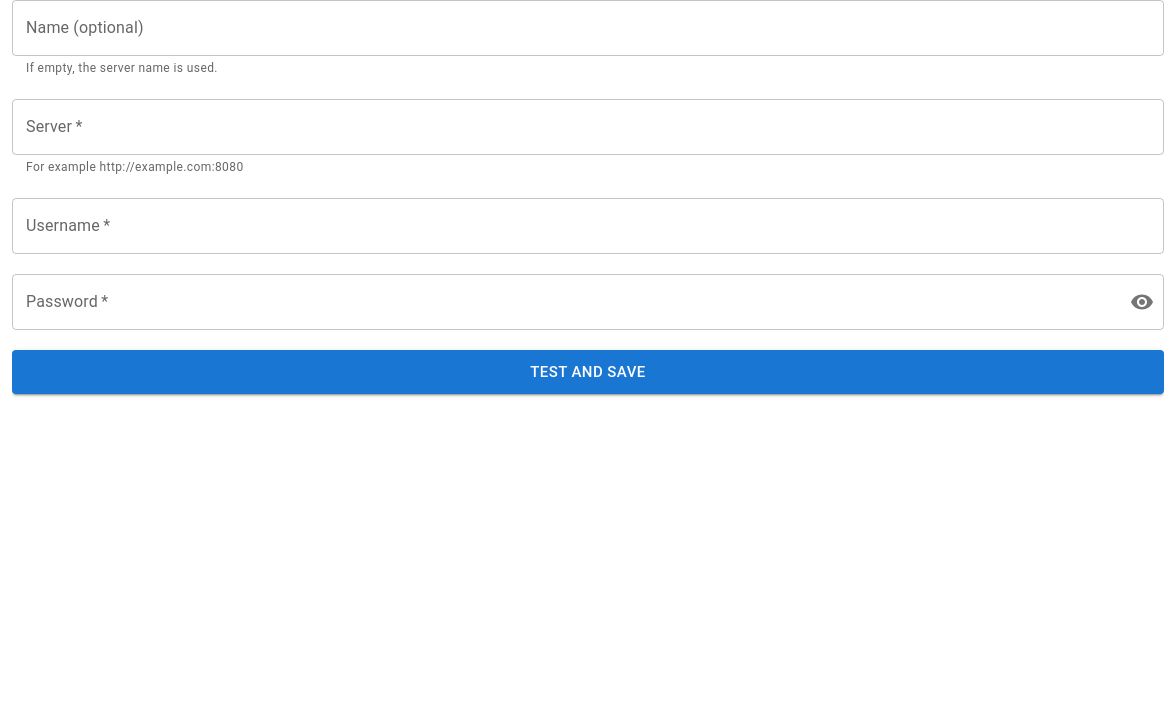
Test: adding a list while offline › Xtream: no connection test, the offline explanation instead
Type "http://panel.example.test" into the field labelled "Server".
click(588, 127); type("http://panel.example.test")  # box [12, 99, 1164, 155]
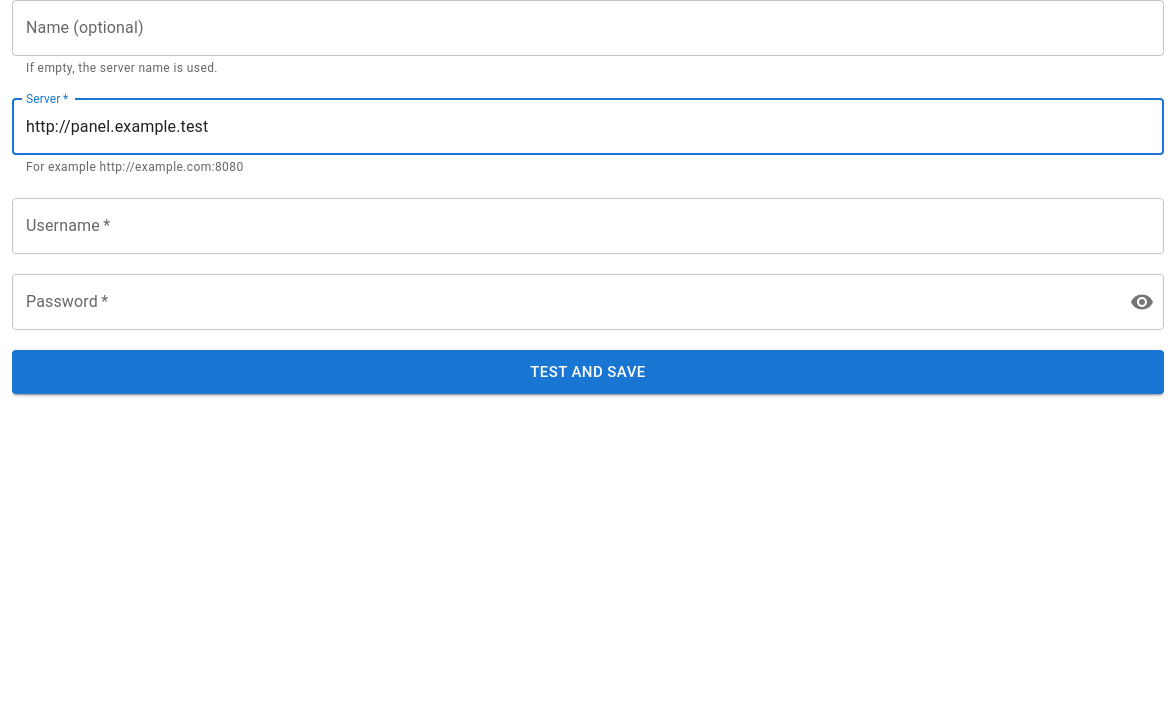
Type "jdoe" into the field labelled "Username".
click(588, 226); type("jdoe")  # box [12, 198, 1164, 254]
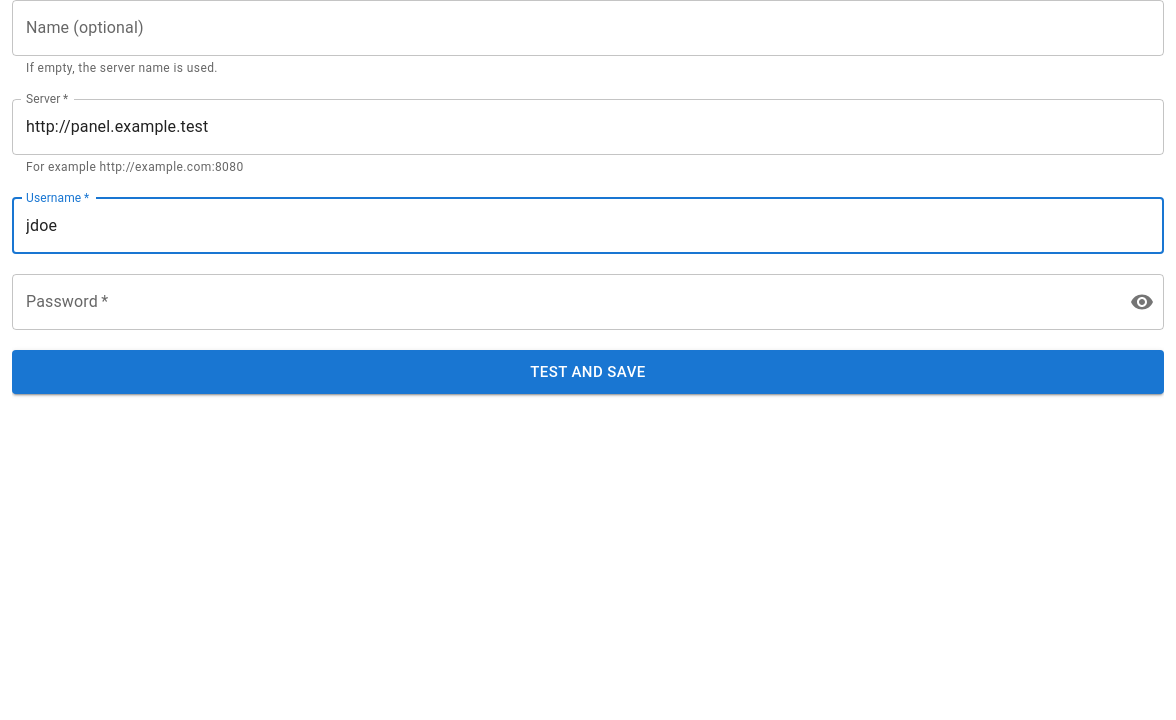
Type "testpass" into the password field labelled "Password".
click(563, 302); type("testpass")  # box [12, 274, 1114, 330]
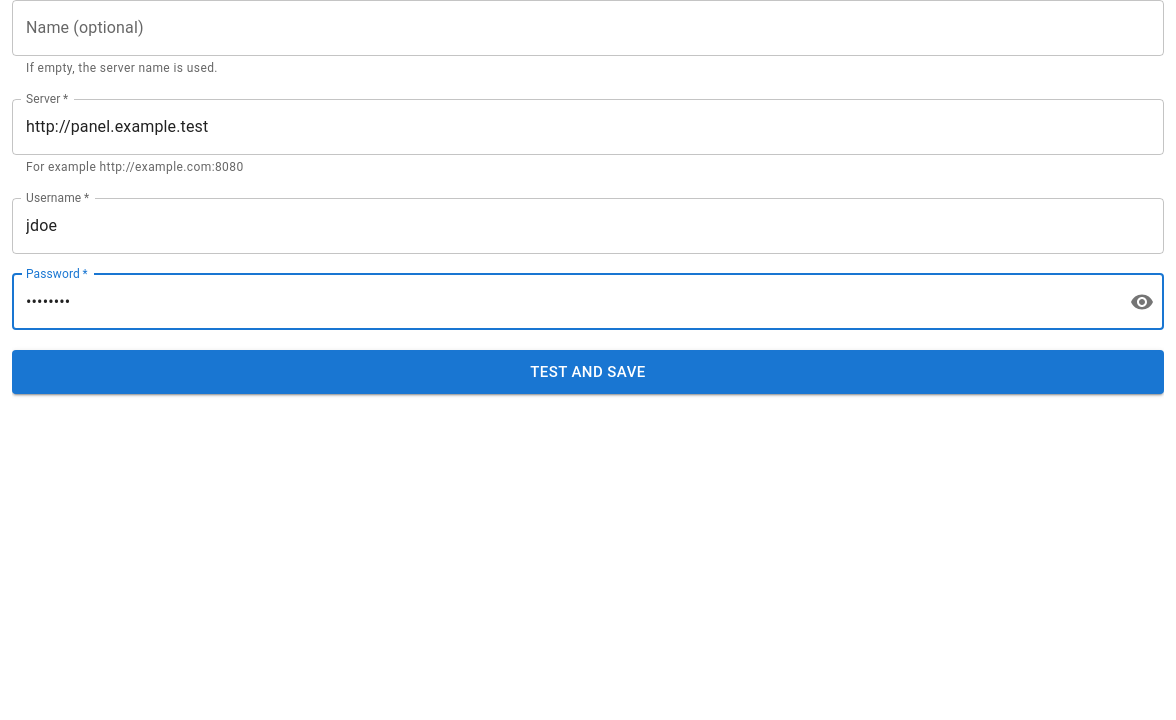
Click the button "Test and save".
click(588, 372)  # box [12, 350, 1164, 394]
(page scrolled)
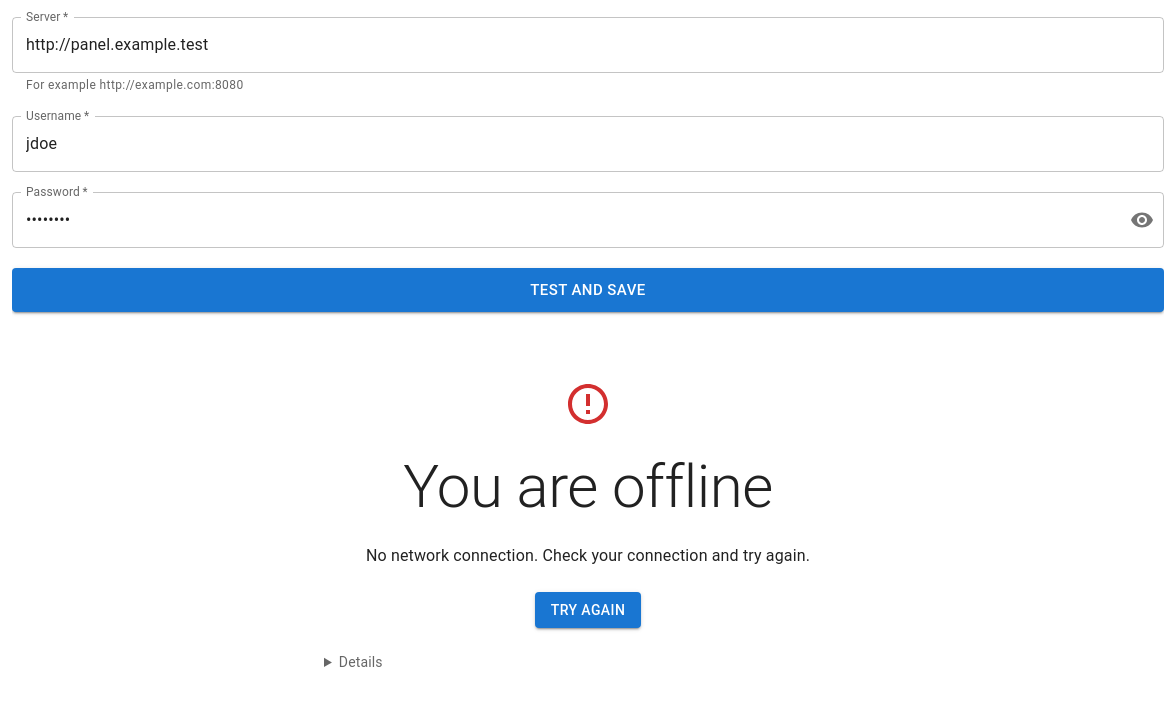
Check: the heading "You are offline" is shown, box [403, 451, 773, 522]
Check: the text "No network connection. Check your connection and try again." is shown, box [366, 546, 810, 565]
